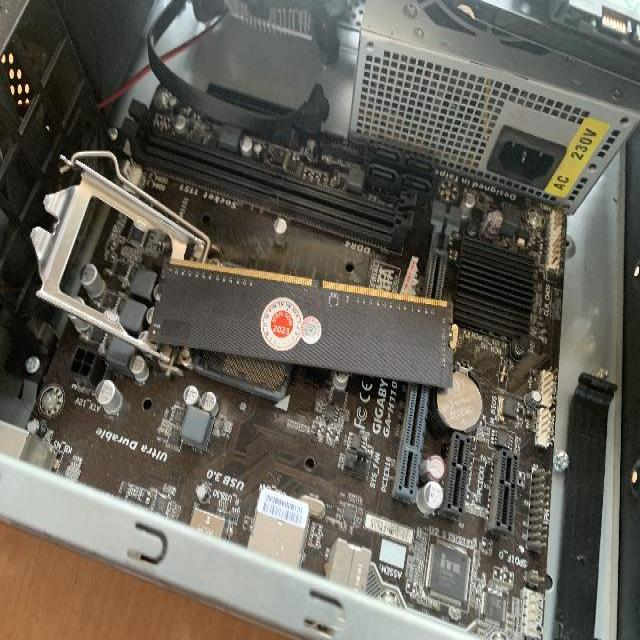Mainboard: (46, 180, 569, 637)
PSU: (340, 0, 640, 213)
RAM: (144, 261, 456, 387)
